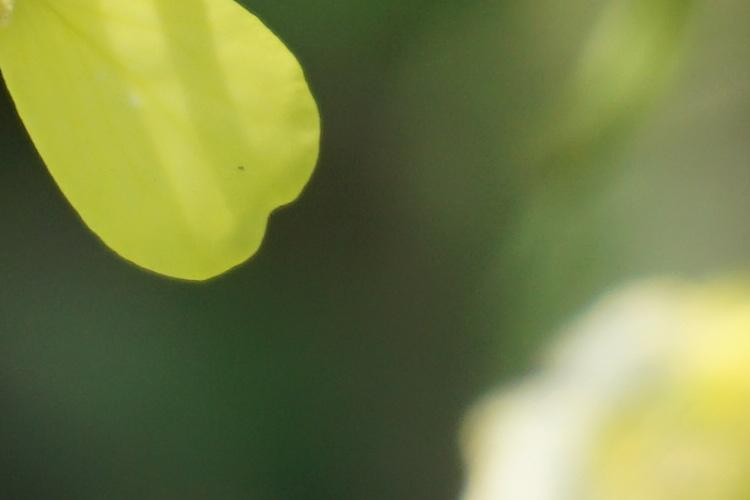yellow: (4, 1, 332, 281), (468, 269, 750, 498)
